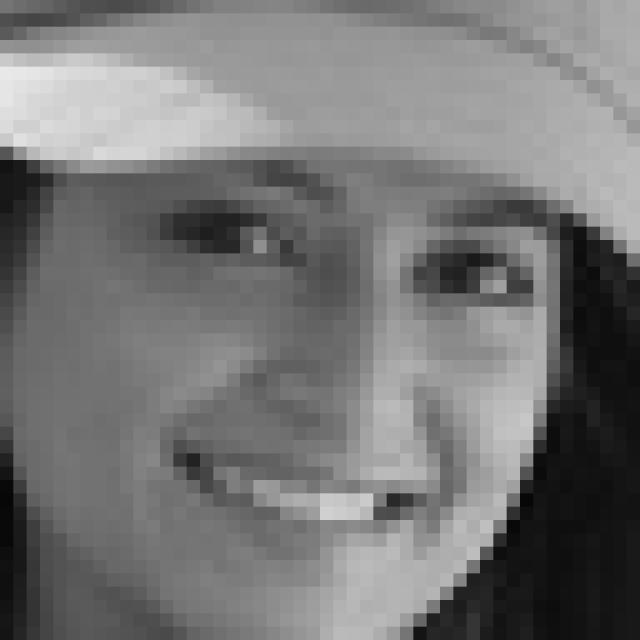happy: (143, 160, 560, 568)
